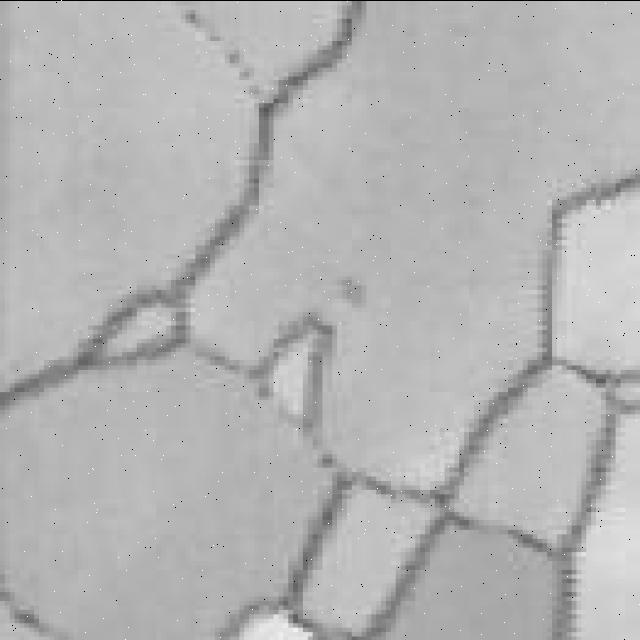good_void: (336, 269, 366, 311)
